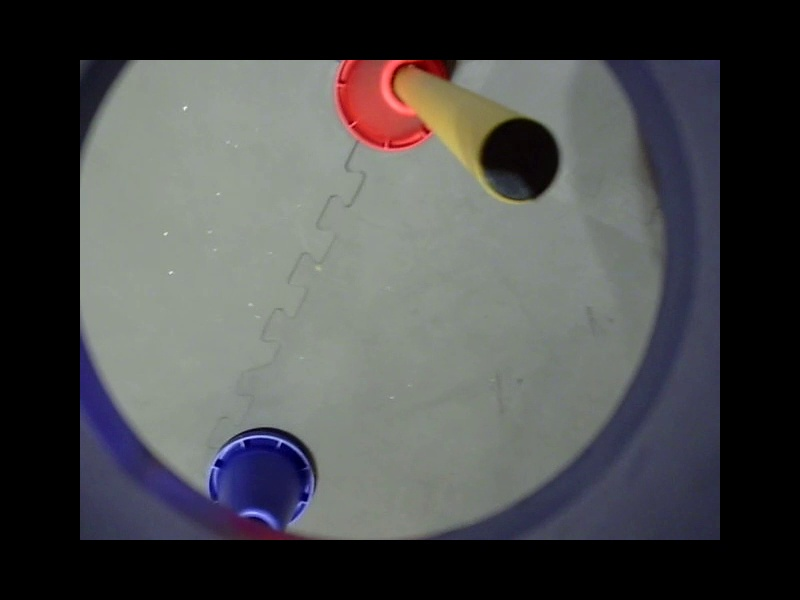tip: (471, 111, 564, 209)
